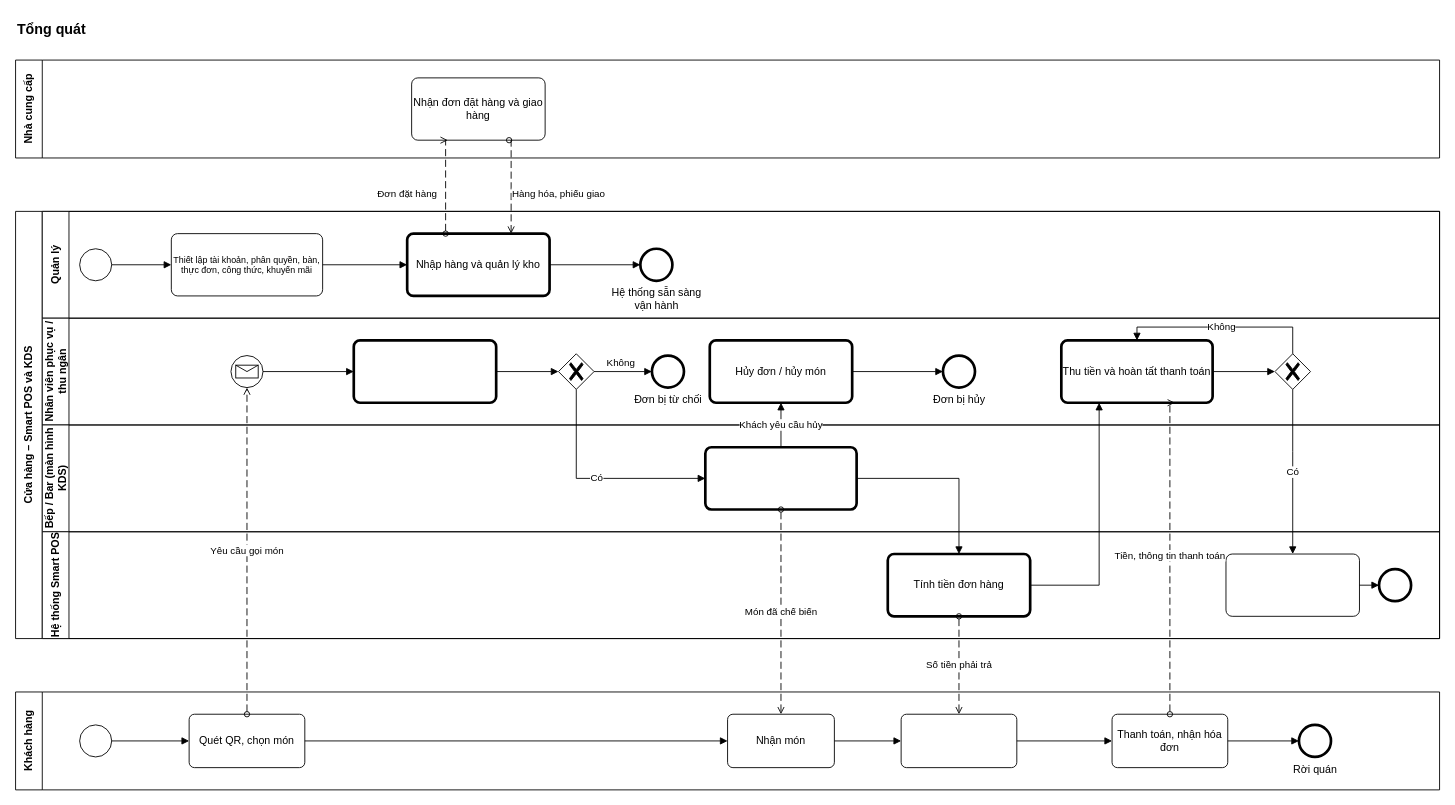
Some shapes in this 1455 by 805 pixel diagram are drawn without their labels. The centre of each missing label's shape, as x and y in pixels:
"Bắt đầu thiết lập hệ thống" belongs at pixel 95 264.
"Ghi nhận doanh thu, tích điểm" belongs at pixel 1292 584.
"Gọi món và xác nhận đơn" belongs at pixel 424 371.
"Hoàn tất đơn" belongs at pixel 1394 584.
"Khách đến quán" belongs at pixel 95 740.
"Nhận số tiền phải trả" belongs at pixel 958 740.
"Nhận yêu cầu gọi món" belongs at pixel 246 371.
"Thanh toán thành công?" belongs at pixel 1292 371.
"Điều phối bếp KDS và phục vụ món" belongs at pixel 781 477.
"Đơn hợp lệ và còn món?" belongs at pixel 576 371.
